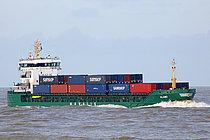Ship: (7, 38, 201, 111)
